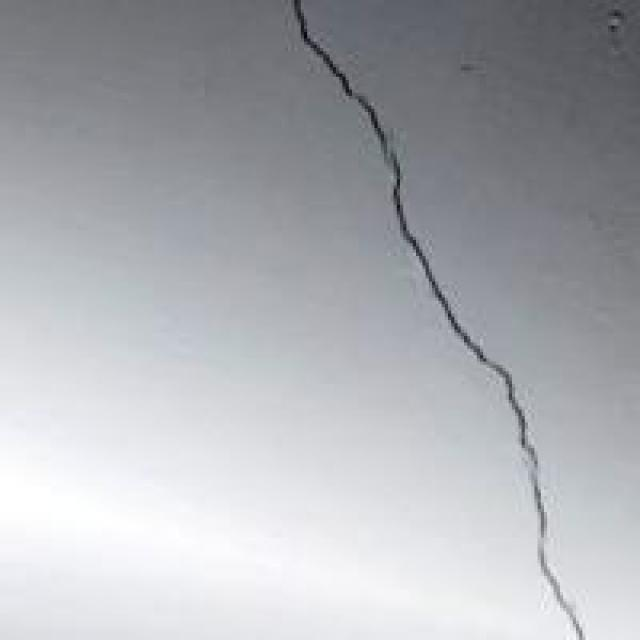Crack: (285, 0, 611, 637)
